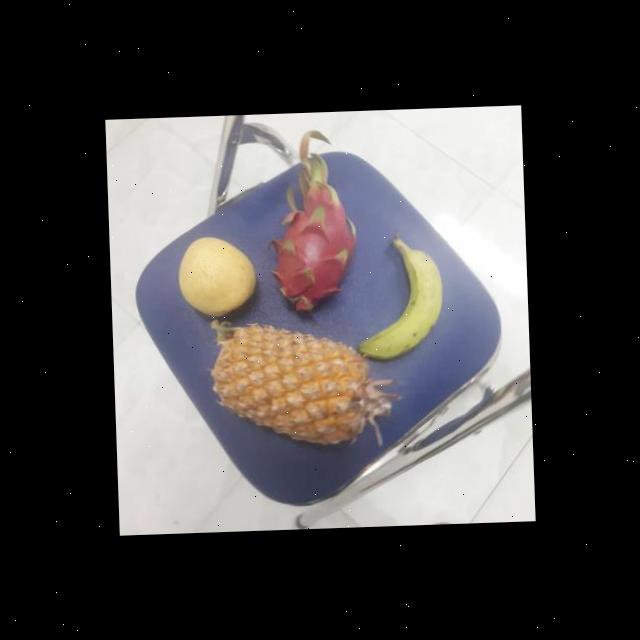banana: (357, 234, 446, 358)
pear: (177, 230, 261, 316)
pineapple: (213, 320, 390, 448)
pitaya: (267, 188, 357, 313)
